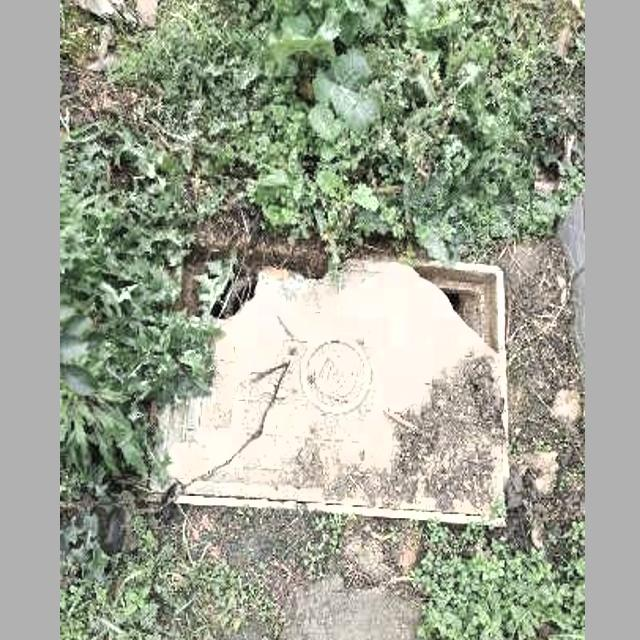broke: (130, 246, 510, 528)
